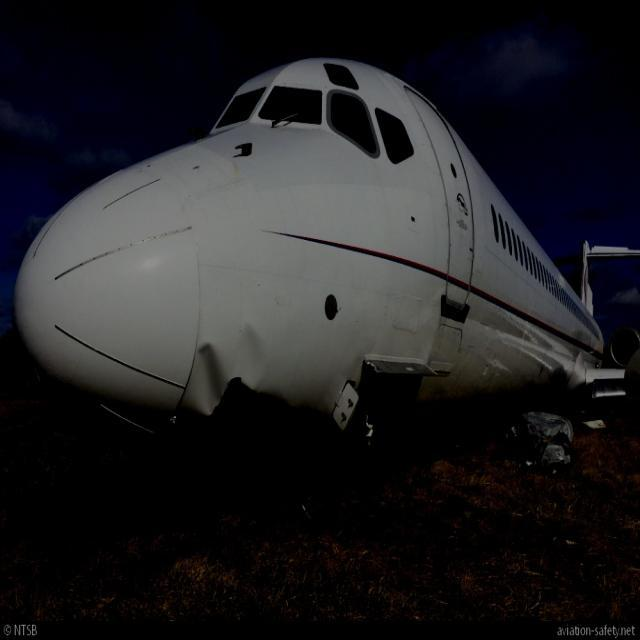dent: (195, 337, 228, 416), (240, 319, 266, 384)
